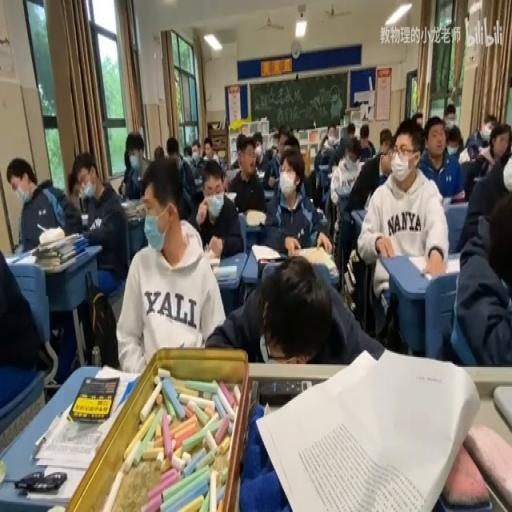calculator: (257, 341, 477, 509), (34, 411, 106, 471), (24, 462, 85, 502), (292, 244, 339, 278), (405, 252, 458, 278), (35, 250, 84, 273), (249, 242, 284, 274), (493, 384, 512, 435), (37, 229, 83, 250), (122, 196, 146, 219), (6, 245, 36, 263), (212, 263, 237, 280), (245, 209, 266, 228), (350, 208, 366, 232), (334, 181, 352, 196), (224, 166, 238, 184), (262, 188, 276, 202), (450, 188, 466, 200), (224, 189, 237, 202), (206, 256, 221, 266), (80, 213, 88, 226), (254, 168, 264, 178), (318, 164, 330, 172), (194, 178, 202, 186), (326, 168, 333, 176)
paper: (114, 156, 224, 372), (356, 121, 450, 345), (208, 255, 381, 364), (9, 158, 82, 380), (446, 170, 510, 366), (66, 150, 127, 292), (261, 146, 328, 256), (224, 132, 266, 220), (431, 127, 466, 199), (350, 149, 386, 212), (121, 130, 152, 199), (459, 115, 495, 162), (314, 122, 340, 181), (185, 138, 206, 181), (356, 125, 374, 161), (202, 134, 220, 166), (376, 126, 392, 158), (442, 102, 457, 132), (166, 136, 179, 160), (66, 170, 76, 196), (278, 140, 290, 160), (484, 114, 498, 129), (253, 134, 263, 154), (413, 110, 424, 128), (318, 135, 328, 152), (154, 144, 164, 160), (346, 122, 356, 136), (123, 148, 130, 168), (270, 144, 280, 158), (183, 144, 192, 158), (328, 125, 337, 138), (118, 179, 124, 196)
person: (68, 377, 118, 422), (255, 377, 309, 407)
